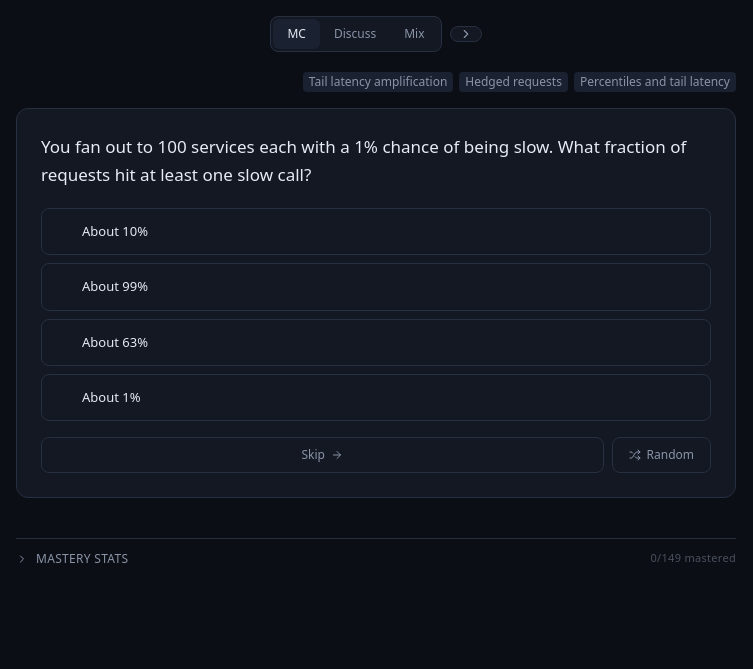
it: DrillSession › keeps difficulty and deck filters collapsed until asked for
Check: the radio button labelled "All" is not shown
Check: the button "Concepts" is not shown
Click the button named "filters" at (466, 34), box left=450, top=26, right=482, bottom=42
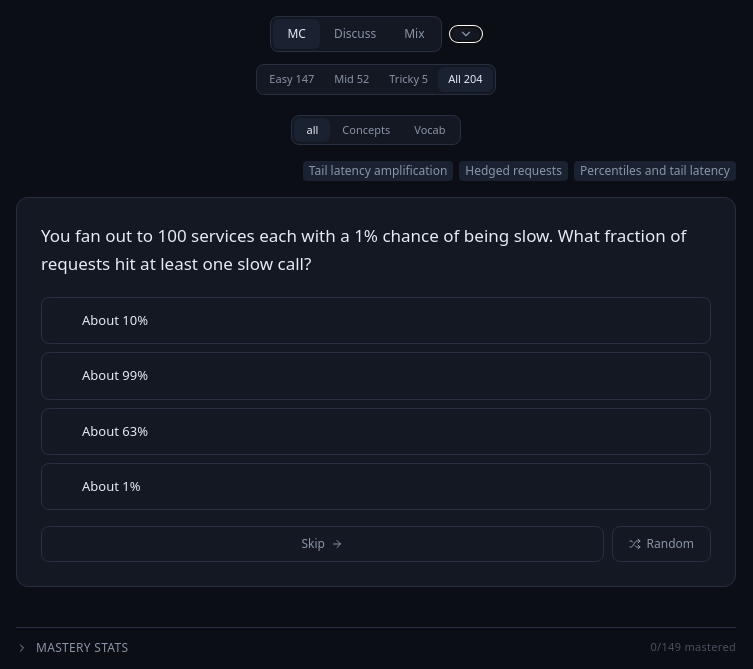
Check: the button named "filters" is expanded, box left=450, top=26, right=482, bottom=42
Check: the radio button labelled "All 204" is shown, box left=438, top=67, right=493, bottom=92
Check: the button "Concepts" is shown, box left=330, top=118, right=402, bottom=142
